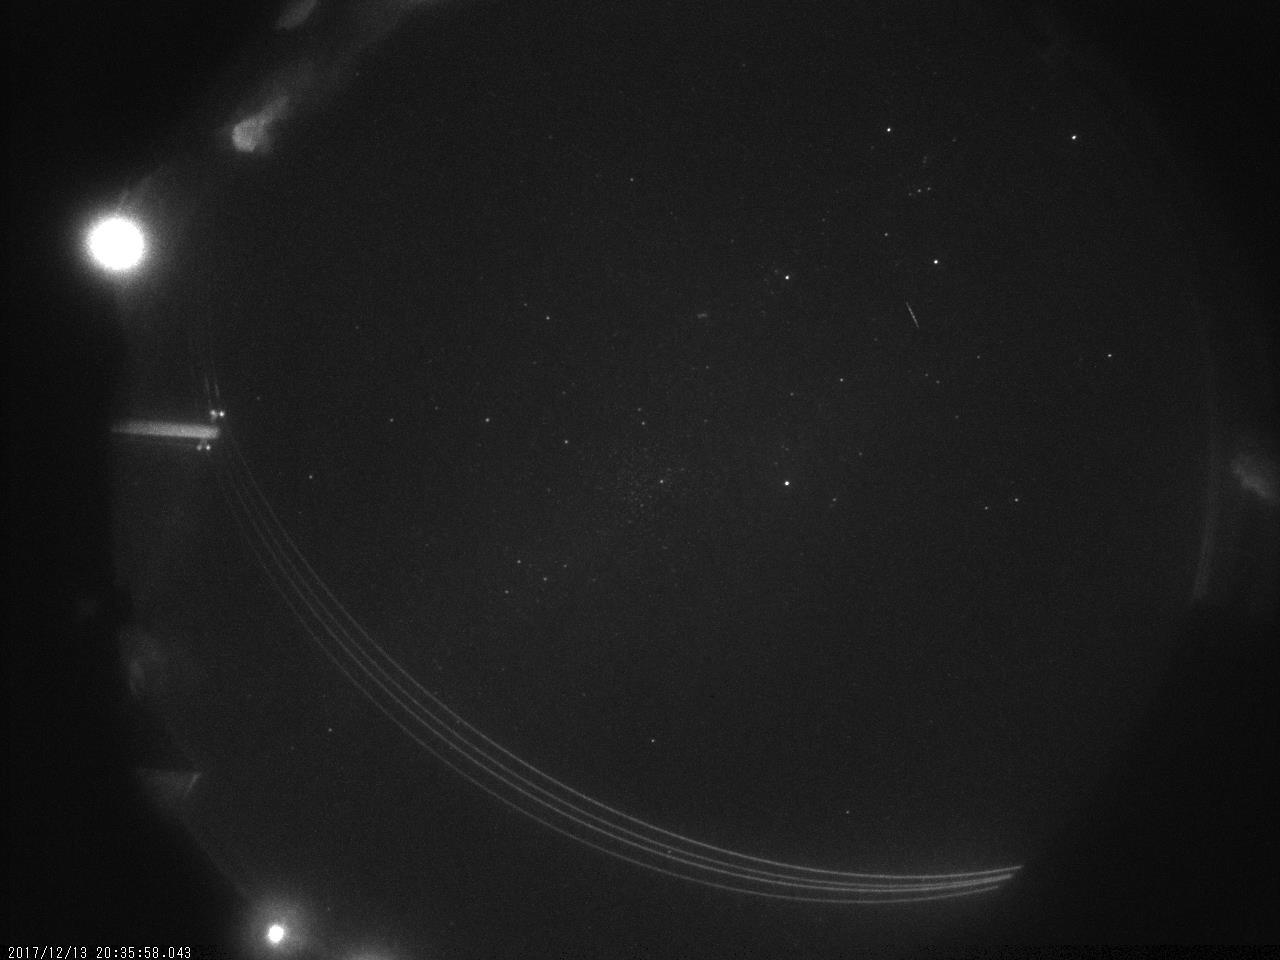Meteor: (897, 294, 927, 338)
